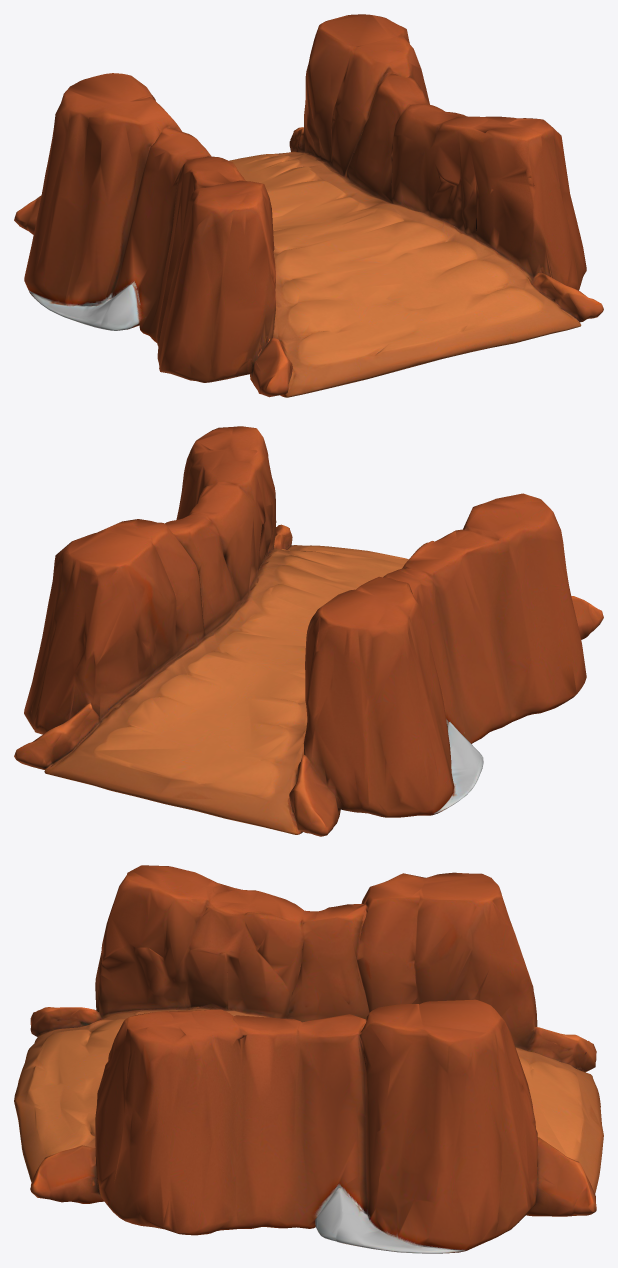
File: escalera_de_piedra.glb
The picture shows the model from 3 angles, top to bottom: view 1: azimuth 30°, elevation 25°; view 2: azimuth 150°, elevation 25°; view 3: azimuth 270°, elevation 25°; orthographic projection. The views are drawn at different scales.
Visible parts, largest first — view 1: escalera_de_piedra; view 2: escalera_de_piedra; view 3: escalera_de_piedra.
Part boxes in pixels (x1,y1,x2,y2): escalera_de_piedra: (14, 14, 603, 397); escalera_de_piedra: (14, 426, 603, 836); escalera_de_piedra: (14, 865, 603, 1253).
Size of what is drawn, in the model's own units: 2.6 by 1.12 by 3.
Materials: 1 (1 with a texture image).
